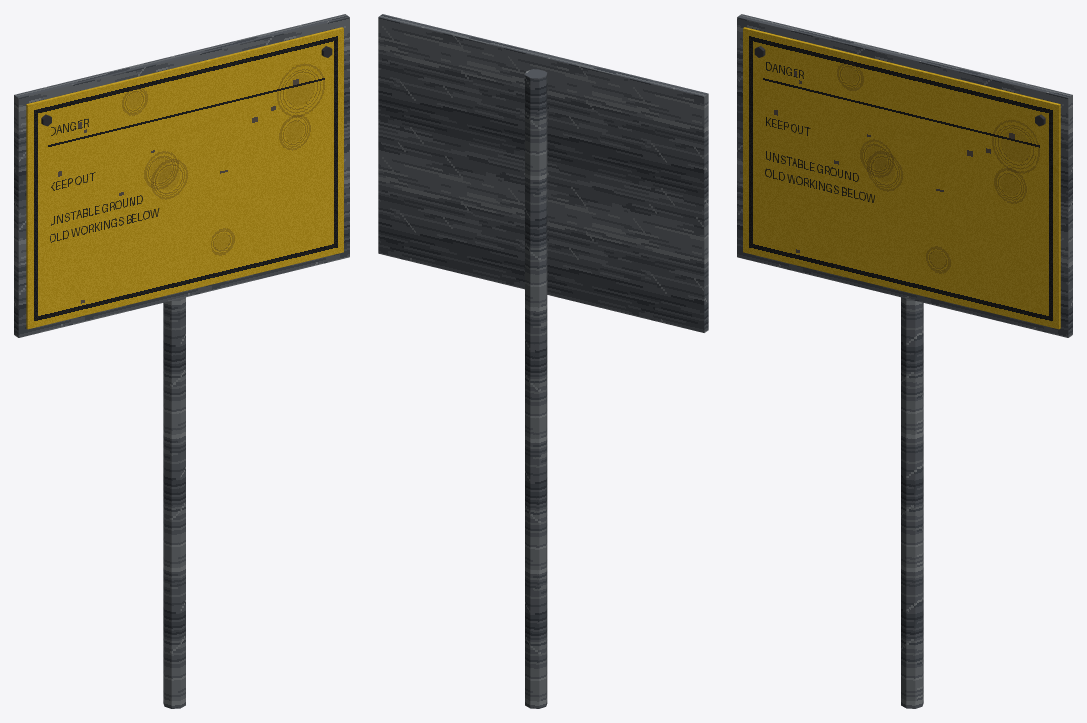
Rendered from DST_Sign_Danger.glb.
The picture shows the model from 3 angles, left to right: view 1: azimuth 30°, elevation 25°; view 2: azimuth 150°, elevation 25°; view 3: azimuth 330°, elevation 25°; orthographic projection.
Parts seen in each view (by area): view 1: Face, Backing, Post; view 2: Backing, Post; view 3: Face, Backing, Post.
Part boxes in pixels (x1,y1,x2,y2): Face: [26, 27, 343, 329]; Backing: [14, 14, 349, 337]; Post: [163, 297, 185, 708]; Backing: [378, 14, 708, 332]; Post: [525, 69, 547, 708]; Face: [743, 27, 1060, 329]; Backing: [737, 14, 1072, 337]; Post: [901, 297, 923, 708].
Bounding box in the file's own units: 1.3 × 2.45 × 0.13.
Materials: 3 (2 with a texture image).
